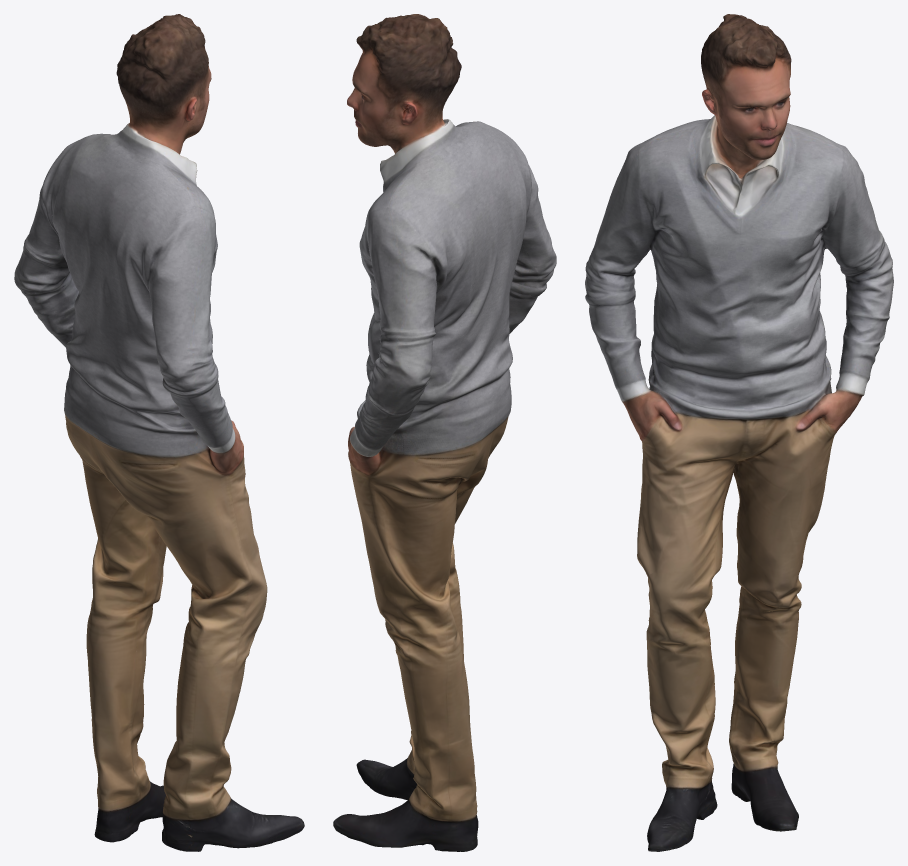
File: Homem-social.glb
3 views of the same model, side by side, from view 1: azimuth 30°, elevation 25°; view 2: azimuth 150°, elevation 25°; view 3: azimuth 270°, elevation 25° (orthographic). The views are drawn at different scales.
Visible parts, largest first — view 1: Mesh1_M_455555566666666_Material__2_0; view 2: Mesh1_M_455555566666666_Material__2_0; view 3: Mesh1_M_455555566666666_Material__2_0.
Boxes of the visible parts, left/top/right/bottom form: Mesh1_M_455555566666666_Material__2_0: left=14, top=14, right=304, bottom=851; Mesh1_M_455555566666666_Material__2_0: left=333, top=14, right=556, bottom=851; Mesh1_M_455555566666666_Material__2_0: left=585, top=14, right=893, bottom=851.
Bounding box in the file's own units: 0.00383 × 0.0166 × 0.00582.
1 material, 1 textured.
